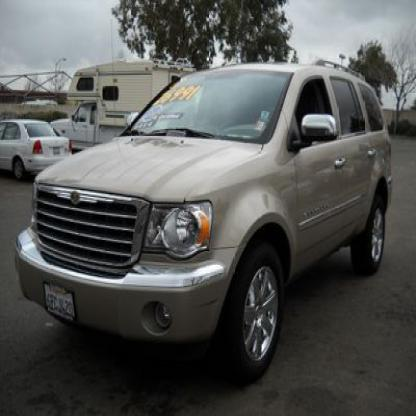Vehicle: (18, 75, 393, 383)
